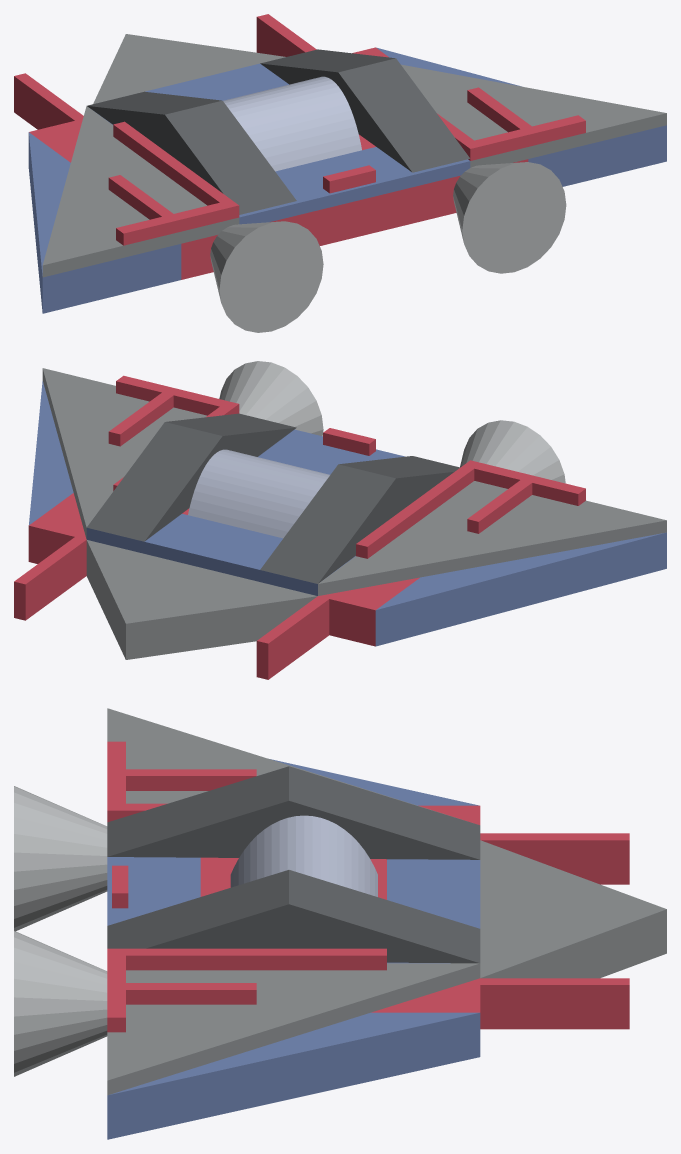
The model's file is tinker_ship.glb.
3 views of the same model, one above another, from view 1: azimuth 30°, elevation 25°; view 2: azimuth 150°, elevation 25°; view 3: azimuth 270°, elevation 25° (orthographic). The views are drawn at different scales.
Parts seen in each view (by area): view 1: Mesh_Mesh_head_geo.001_lambert2SG.001; view 2: Mesh_Mesh_head_geo.001_lambert2SG.001; view 3: Mesh_Mesh_head_geo.001_lambert2SG.001.
Boxes of the visible parts, <box> form: Mesh_Mesh_head_geo.001_lambert2SG.001: <box>14,14,666,332</box>; Mesh_Mesh_head_geo.001_lambert2SG.001: <box>14,361,666,679</box>; Mesh_Mesh_head_geo.001_lambert2SG.001: <box>14,708,666,1139</box>.
Size of the model in its own units: 54 by 11 by 40.
